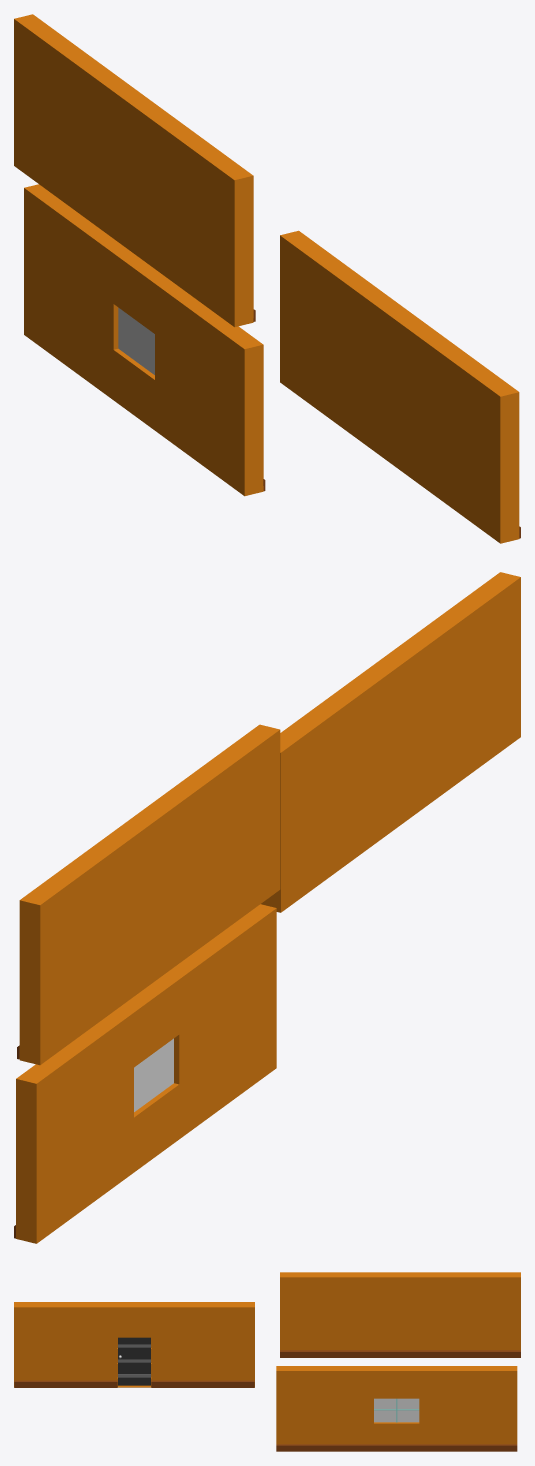
The model's file is Walls2.fbx.
The picture shows the model from 3 angles, top to bottom: view 1: azimuth 30°, elevation 25°; view 2: azimuth 150°, elevation 25°; view 3: azimuth 270°, elevation 25°; orthographic projection. The views are drawn at different scales.
Parts seen in each view (by area): view 1: Wall, WallDoor, WallWindow; view 2: Wall, WallWindow, WallDoor; view 3: WallWindow, WallDoor, Wall.
Part boxes in pixels (x1,y1,x2,y2): Wall: (14,14,255,327); WallDoor: (280,230,520,543); WallWindow: (24,184,265,496); Wall: (17,724,280,1065); WallWindow: (14,904,276,1243); WallDoor: (261,572,520,912); WallWindow: (276,1366,517,1451); WallDoor: (14,1302,254,1387); Wall: (280,1272,520,1357).
Size of the model in its own units: 456 by 3179 by 8484.
